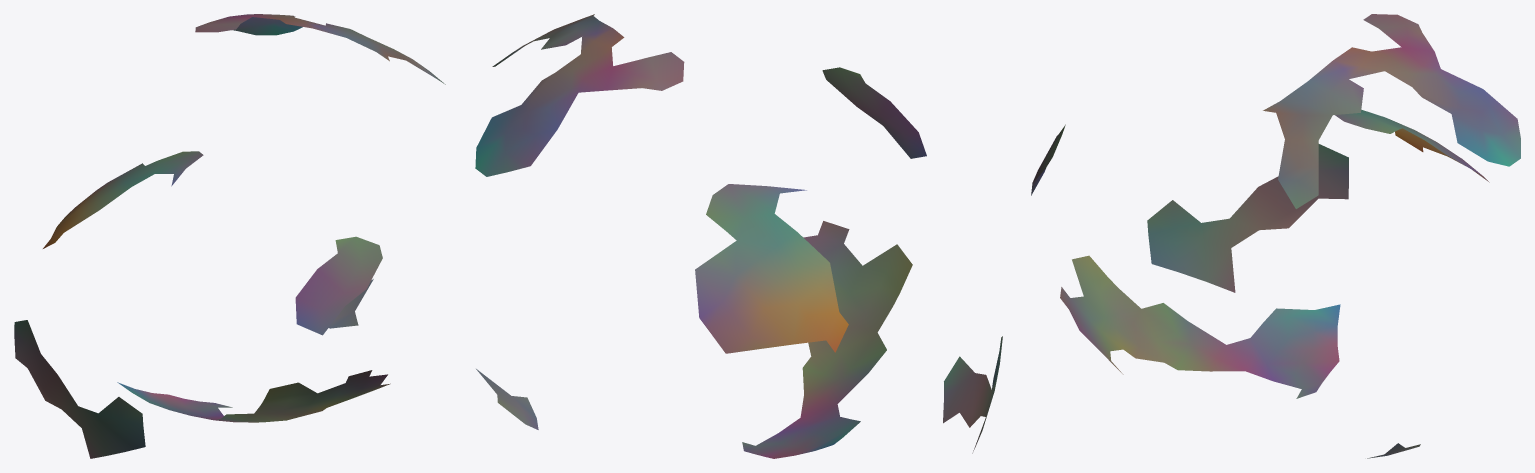
Rendered from space-nebulae-nebula_v16.glb.
3 renders of one model, left to right at view 1: azimuth 30°, elevation 25°; view 2: azimuth 150°, elevation 25°; view 3: azimuth 270°, elevation 25°, orthographic. The views are drawn at different scales.
Visible parts, largest first — view 1: Nebula_v16; view 2: Nebula_v16; view 3: Nebula_v16.
Part boxes in pixels (x1,y1,x2,y2): Nebula_v16: (14, 14, 445, 458); Nebula_v16: (475, 14, 1002, 458); Nebula_v16: (1031, 14, 1520, 458).
Bounding box in the file's own units: 0.5 × 0.4065 × 0.4552.
